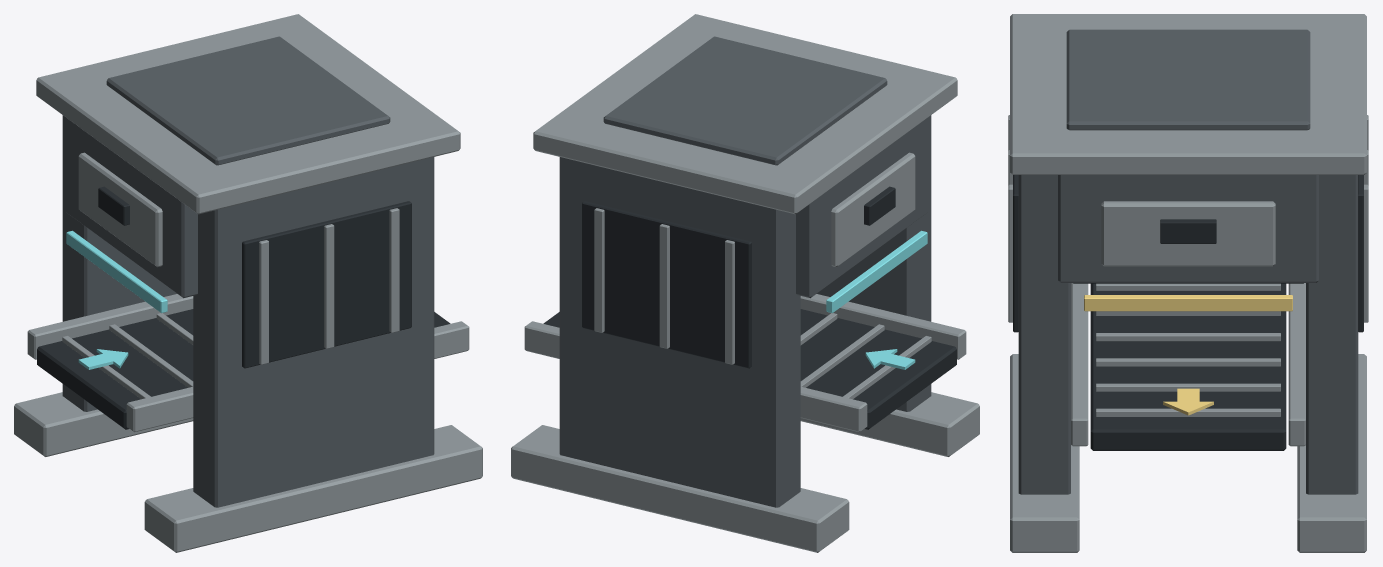
The model's file is storage-mk1.glb.
The picture shows the model from 3 angles, left to right: view 1: azimuth 30°, elevation 25°; view 2: azimuth 150°, elevation 25°; view 3: azimuth 270°, elevation 25°; orthographic projection. The views are drawn at different scales.
Visible parts, largest first — view 1: storage-mk1 / Graphite enamel, storage-mk1 / Machined steel, storage-mk1 / Recesses and belt, storage-mk1 / Cyan inlet markings; view 2: storage-mk1 / Graphite enamel, storage-mk1 / Machined steel, storage-mk1 / Recesses and belt, storage-mk1 / Cyan inlet markings; view 3: storage-mk1 / Graphite enamel, storage-mk1 / Machined steel, storage-mk1 / Recesses and belt, storage-mk1 / Gold outlet markings.
Boxes of the visible parts, <box> form: storage-mk1 / Graphite enamel: <box>62,36,434,507</box>; storage-mk1 / Machined steel: <box>14,14,482,552</box>; storage-mk1 / Recesses and belt: <box>37,186,450,429</box>; storage-mk1 / Cyan inlet markings: <box>66,230,167,369</box>; storage-mk1 / Graphite enamel: <box>559,36,931,507</box>; storage-mk1 / Machined steel: <box>511,14,979,552</box>; storage-mk1 / Recesses and belt: <box>543,186,956,429</box>; storage-mk1 / Cyan inlet markings: <box>826,230,927,369</box>; storage-mk1 / Graphite enamel: <box>1018,29,1358,494</box>; storage-mk1 / Machined steel: <box>1008,14,1368,552</box>; storage-mk1 / Recesses and belt: <box>1013,175,1363,450</box>; storage-mk1 / Gold outlet markings: <box>1084,295,1292,415</box>.
Size of the model in its own units: 0.98 by 1 by 0.8272.
